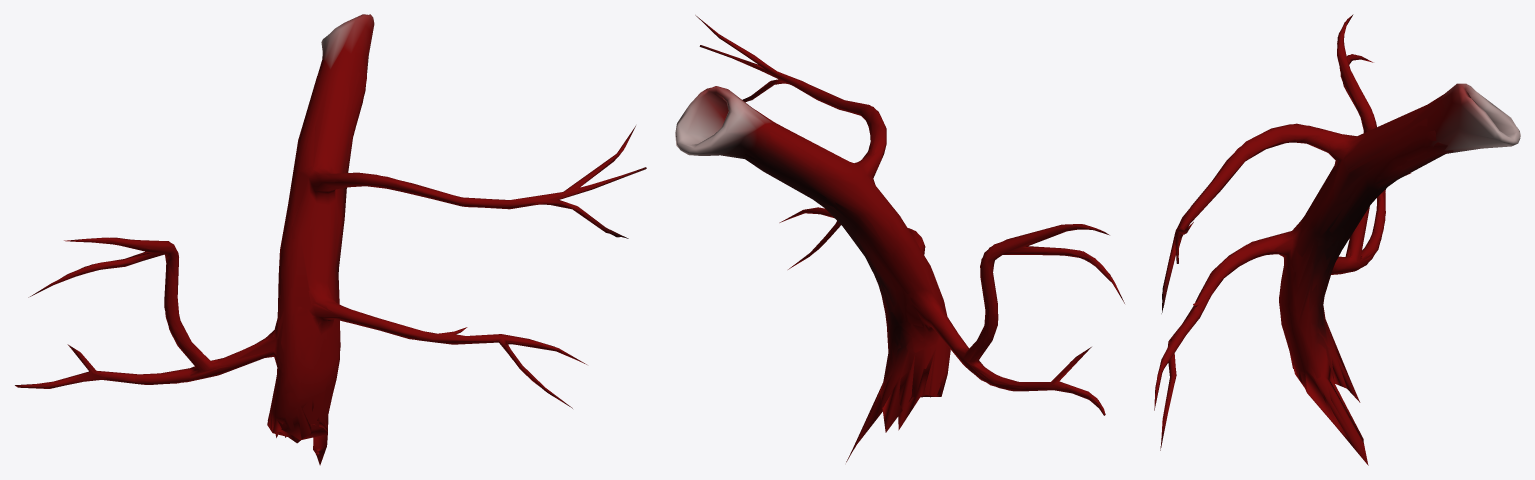
The model's file is VeiaVermelha6.fbx.
The picture shows the model from 3 angles, left to right: view 1: azimuth 30°, elevation 25°; view 2: azimuth 150°, elevation 25°; view 3: azimuth 270°, elevation 25°; orthographic projection. The views are drawn at different scales.
Visible parts, largest first — view 1: arteries_3; view 2: arteries_3; view 3: arteries_3.
Boxes of the visible parts, x1,y1,x2,y2 form: arteries_3: [15, 14, 646, 465]; arteries_3: [675, 15, 1124, 462]; arteries_3: [1154, 14, 1520, 465].
Size of the model in its own units: 0.5604 by 0.405 by 0.3167.
